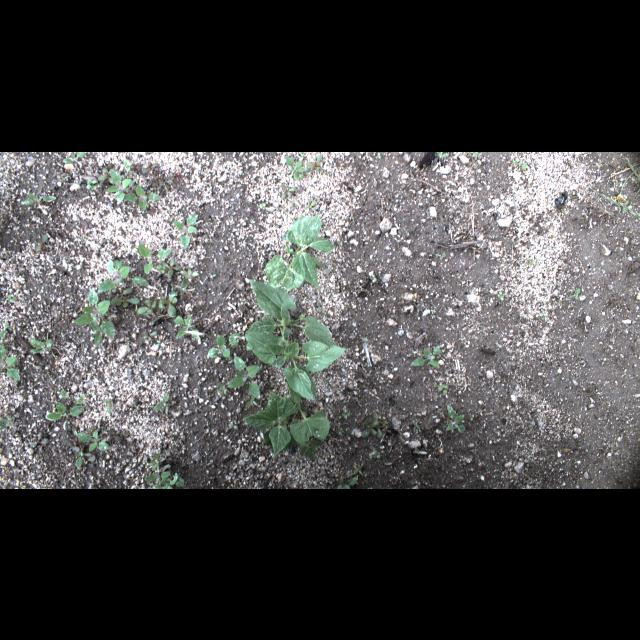crop: (244, 328, 350, 402), (242, 388, 332, 458), (245, 276, 337, 344), (264, 210, 338, 294)
weed: (72, 284, 120, 350), (592, 164, 638, 218), (96, 257, 152, 295), (221, 353, 263, 403), (101, 166, 135, 204), (159, 278, 191, 318), (2, 328, 24, 384), (204, 330, 242, 360), (124, 183, 162, 213), (170, 212, 198, 250), (73, 427, 113, 453), (408, 343, 444, 371), (137, 240, 165, 274), (46, 400, 86, 422), (171, 312, 201, 341), (358, 416, 394, 440), (442, 401, 466, 435), (144, 470, 186, 488), (16, 190, 59, 207), (110, 286, 140, 310), (282, 152, 306, 180), (27, 334, 55, 356), (160, 256, 182, 280), (74, 446, 95, 470), (136, 295, 158, 315), (147, 451, 167, 472), (60, 152, 86, 168), (26, 430, 49, 448), (307, 152, 325, 174), (336, 472, 360, 488), (278, 180, 298, 198), (511, 156, 532, 172), (564, 286, 582, 304), (34, 232, 50, 252), (153, 392, 169, 412), (180, 268, 200, 280), (142, 160, 162, 172), (106, 428, 122, 442), (86, 177, 100, 190), (436, 383, 449, 395)
